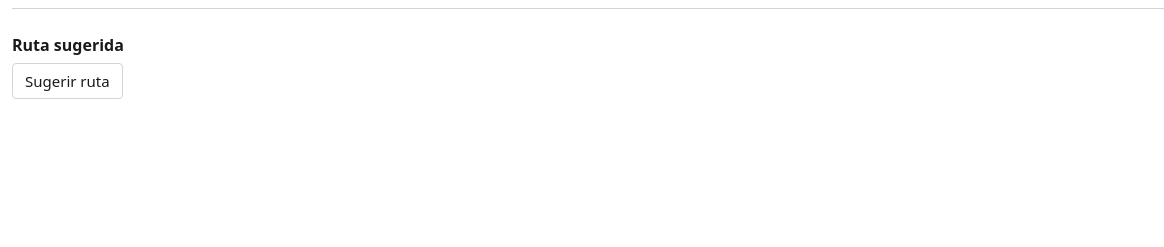
Test case: pedir una ruta › muestra el orden y el ahorro frente al pedido
Click the button "Sugerir ruta". click: {"x": 67, "y": 81}
box: left=12, top=63, right=123, bottom=99
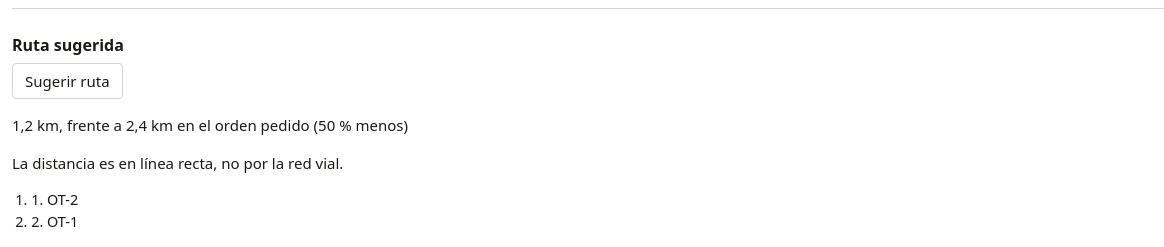
Check: the text "1,2 km, frente a 2,4 km en el orden pedido (50 % menos)" is shown, box left=12, top=115, right=408, bottom=135
Check: the list item "1. OT-2" is shown, box left=31, top=190, right=78, bottom=209
Check: the list item "2. OT-1" is shown, box left=31, top=212, right=78, bottom=231
